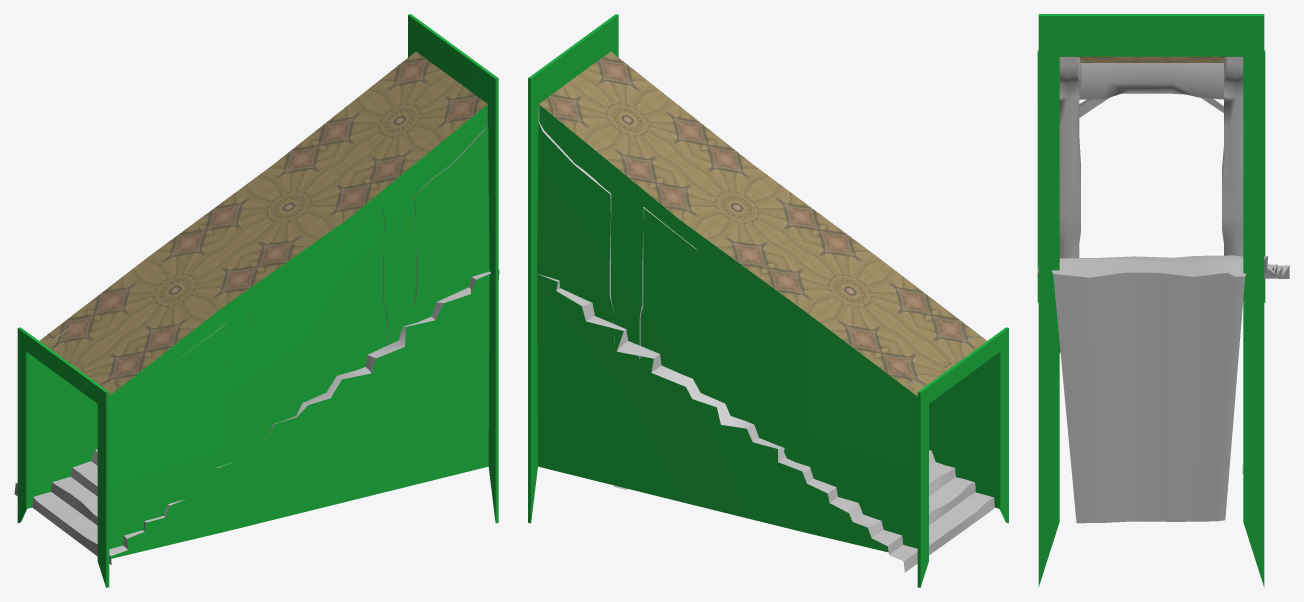
File: HallWay Stairs 03.fbx
3 views of the same model, side by side, from view 1: azimuth 30°, elevation 25°; view 2: azimuth 150°, elevation 25°; view 3: azimuth 270°, elevation 25° (orthographic). The views are drawn at different scales.
Parts seen in each view (by area): view 1: Plane; view 2: Plane; view 3: Plane.
Part boxes in pixels (x1=…): Plane: x1=14, y1=14, x2=499, y2=587; Plane: x1=528, y1=14, x2=1008, y2=587; Plane: x1=1037, y1=14, x2=1289, y2=587.
Size of the model in its own units: 986 by 1045 by 418.
